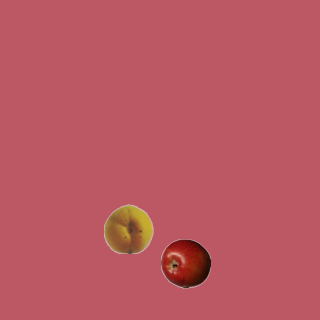Apple Braeburn: (160, 238, 210, 288)
Peach 2: (103, 203, 153, 253)
